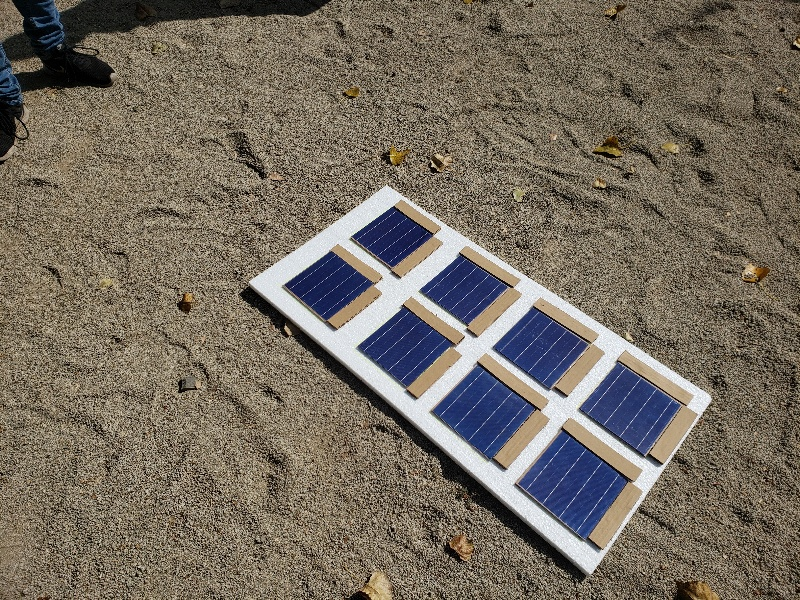clean: (517, 428, 631, 546), (578, 361, 685, 463), (432, 366, 538, 462), (493, 307, 591, 387), (358, 307, 453, 389), (417, 256, 511, 329), (283, 250, 374, 325), (353, 207, 434, 270)
